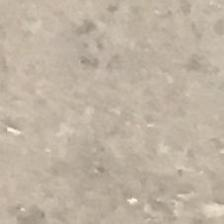Non_Crack: (23, 34, 205, 195)
